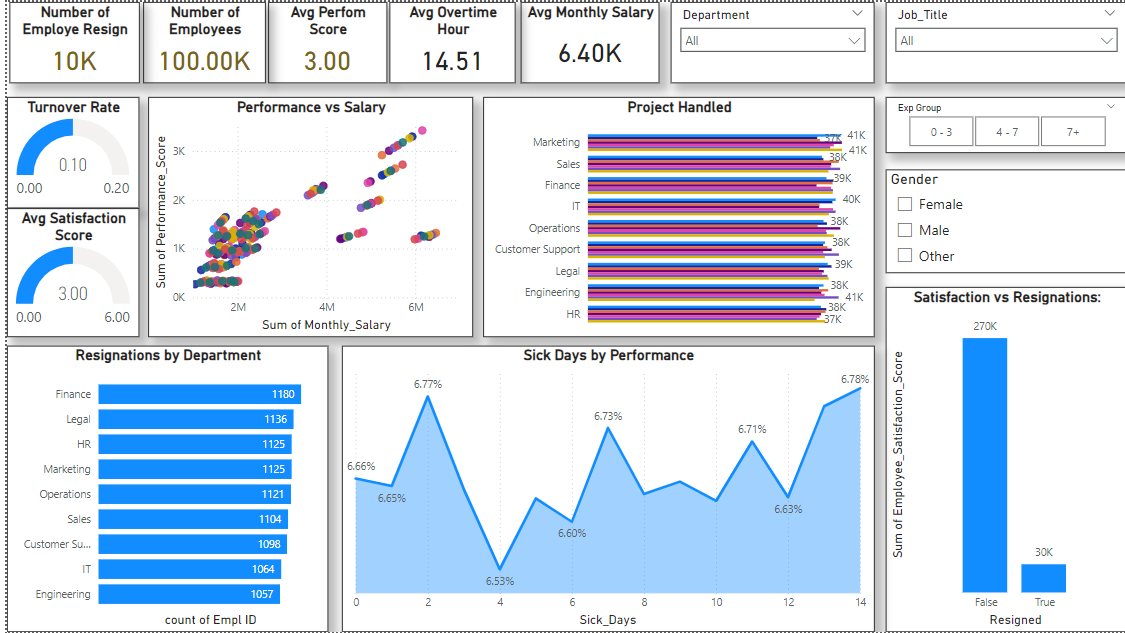

The page's visual inventory and layout, read from the dashboard file:
{"tool":"powerbi","page":{"name":"Final","canvas":[1280,720],"ordinal":0},"visuals":[{"type":"gauge","fields":{"Y":["Measure.Turnover Rate"]},"box":[0,108.6,151.4,127.1],"z":0},{"type":"card","title":"Avg Perfom Score","fields":{"Values":["Measure.Avg Perfomence Score"]},"box":[298.6,0,135.7,92.9],"z":1},{"type":"card","title":"Avg Monthly Salary","fields":{"Values":["Measure.Avg Monthly Salary"]},"box":[587.1,0,158.6,92.9],"z":2},{"type":"card","title":"Avg Overtime Hour","fields":{"Values":["Measure.Avg Overtime Hour"]},"box":[437.1,0,144.3,92.9],"z":3},{"type":"gauge","fields":{"Y":["Measure.Avg Satisfaction Score"]},"box":[0,235.7,151.4,147.1],"z":4},{"type":"card","title":"Number of Employees","fields":{"Values":["Count(Data.Employee_ID)"]},"box":[155.7,0,140,92.9],"z":5},{"type":"card","title":"Number of Employe Resign","fields":{"Values":["Data.count of Empl ID"]},"box":[2.9,0,148.6,92.9],"z":6},{"type":"scatterChart","title":"Performance vs Salary","fields":{"Category":["Data.Monthly_Salary"],"X":["Sum(Data.Monthly_Salary)"],"Y":["Sum(Data.Performance_Score)"],"Series":["Data.Department"]},"box":[161.4,108.6,371.4,274.3],"z":7},{"type":"clusteredBarChart","title":"Project Handled","fields":{"Y":["Sum(Data.Projects_Handled)"],"Category":["Data.Department"],"Series":["Data.Job_Title"]},"box":[544.3,108.6,447.1,274.3],"z":8},{"type":"clusteredBarChart","title":"Resignations by Department","fields":{"Category":["Data.Department"],"Y":["Data.count of Empl ID"]},"box":[0,392.9,367.1,327.1],"z":9},{"type":"clusteredColumnChart","title":"Satisfaction vs Resignations:","fields":{"Y":["Sum(Data.Employee_Satisfaction_Score)"],"Category":["Data.Resigned"]},"box":[1004.3,325.7,275.7,394.3],"z":10},{"type":"slicer","fields":{"Values":["Data.Department"]},"box":[758.6,0,232.9,92.9],"z":11},{"type":"slicer","fields":{"Values":["Data.Job_Title"]},"box":[1004.3,0,275.7,92.9],"z":12},{"type":"areaChart","title":"Sick Days by Performance","fields":{"Category":["Data.Sick_Days"],"Y":["Divide(Sum(Data.Performance_Score), ScopedEval(Sum(Data.Performance_Score), []))"]},"box":[382.9,392.9,608.6,327.1],"z":13},{"type":"slicer","fields":{"Values":["Data.Exp Group"]},"box":[1004.3,108.6,275.7,64.3],"z":14},{"type":"slicer","title":"Gender","fields":{"Values":["Data.Gender"]},"box":[1004.3,191.4,275.7,118.6],"z":15}]}

Visuals, with their boxes in screenshot pixels (x1, y1, x2, y2), scaled from the page's 1280x720 canvas onto the 1125x633 screenshot:
gauge - Measure.Turnover Rate: rect(0, 95, 133, 207)
"Avg Perfom Score" card: rect(262, 0, 382, 82)
"Avg Monthly Salary" card: rect(516, 0, 655, 82)
"Avg Overtime Hour" card: rect(384, 0, 511, 82)
gauge - Measure.Avg Satisfaction Score: rect(0, 207, 133, 337)
"Number of Employees" card: rect(137, 0, 260, 82)
"Number of Employe Resign" card: rect(3, 0, 133, 82)
"Performance vs Salary" scatterChart: rect(142, 95, 468, 337)
"Project Handled" clusteredBarChart: rect(478, 95, 871, 337)
"Resignations by Department" clusteredBarChart: rect(0, 345, 323, 632)
"Satisfaction vs Resignations:" clusteredColumnChart: rect(883, 286, 1124, 632)
slicer - Data.Department: rect(667, 0, 871, 82)
slicer - Data.Job_Title: rect(883, 0, 1124, 82)
"Sick Days by Performance" areaChart: rect(337, 345, 871, 632)
slicer - Data.Exp Group: rect(883, 95, 1124, 152)
"Gender" slicer: rect(883, 168, 1124, 273)
